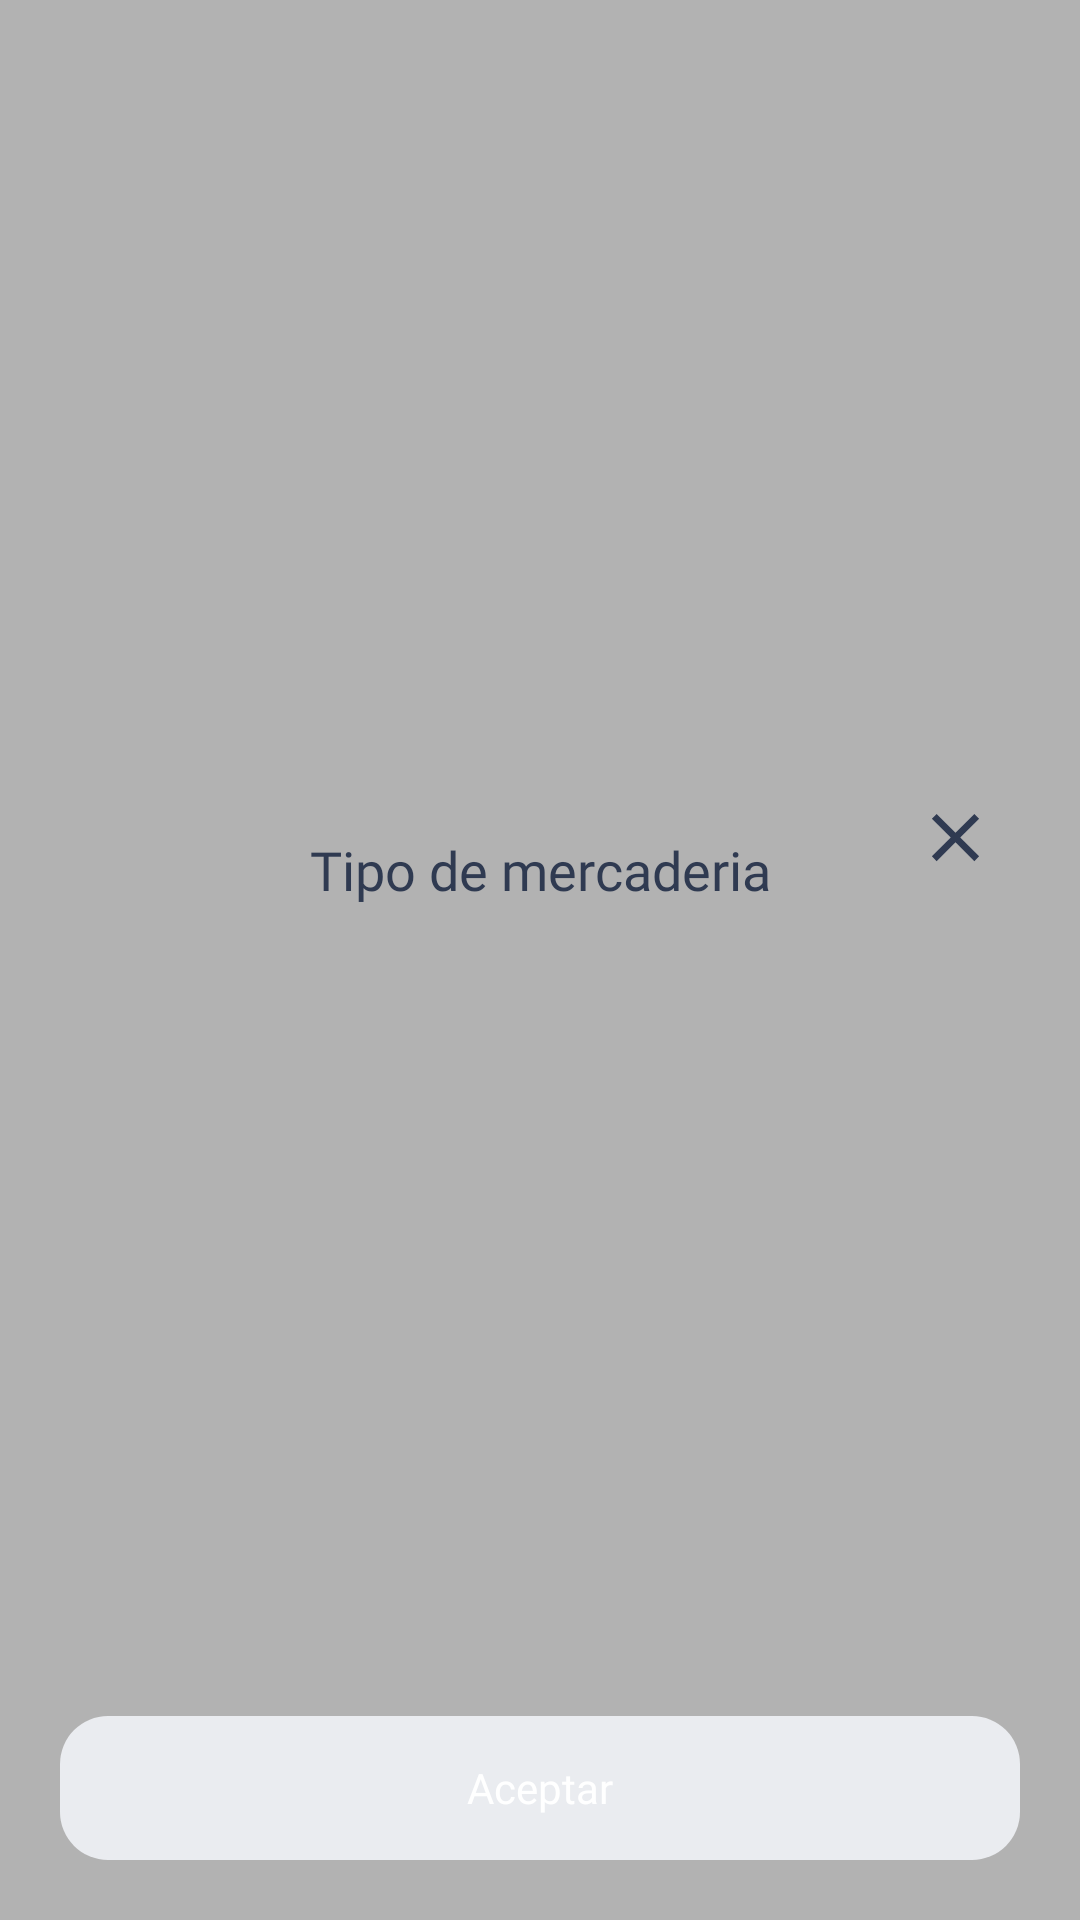

Point at icon controls on the screen. Image size 1080px×1920px, points as (x=x, y=y).
close: (x=955, y=837)
